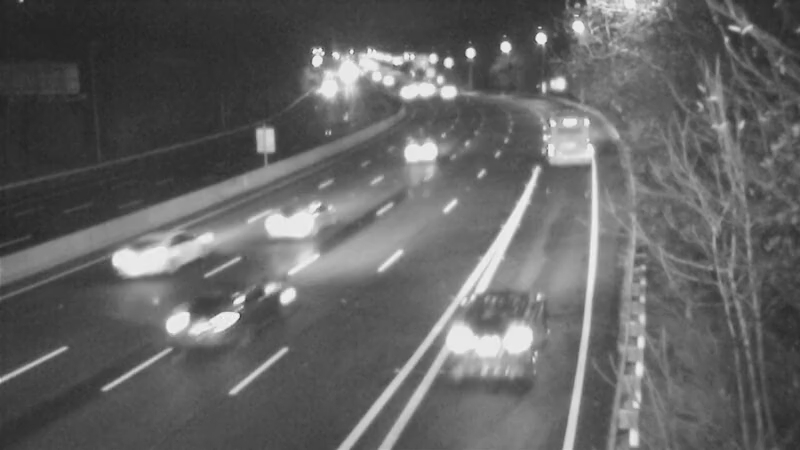vehicle: (143, 268, 253, 378), (437, 287, 547, 397), (263, 181, 343, 261), (109, 216, 189, 296), (366, 54, 416, 104), (402, 67, 452, 117), (380, 65, 430, 115), (427, 66, 477, 116), (537, 100, 587, 150), (391, 124, 441, 174)
